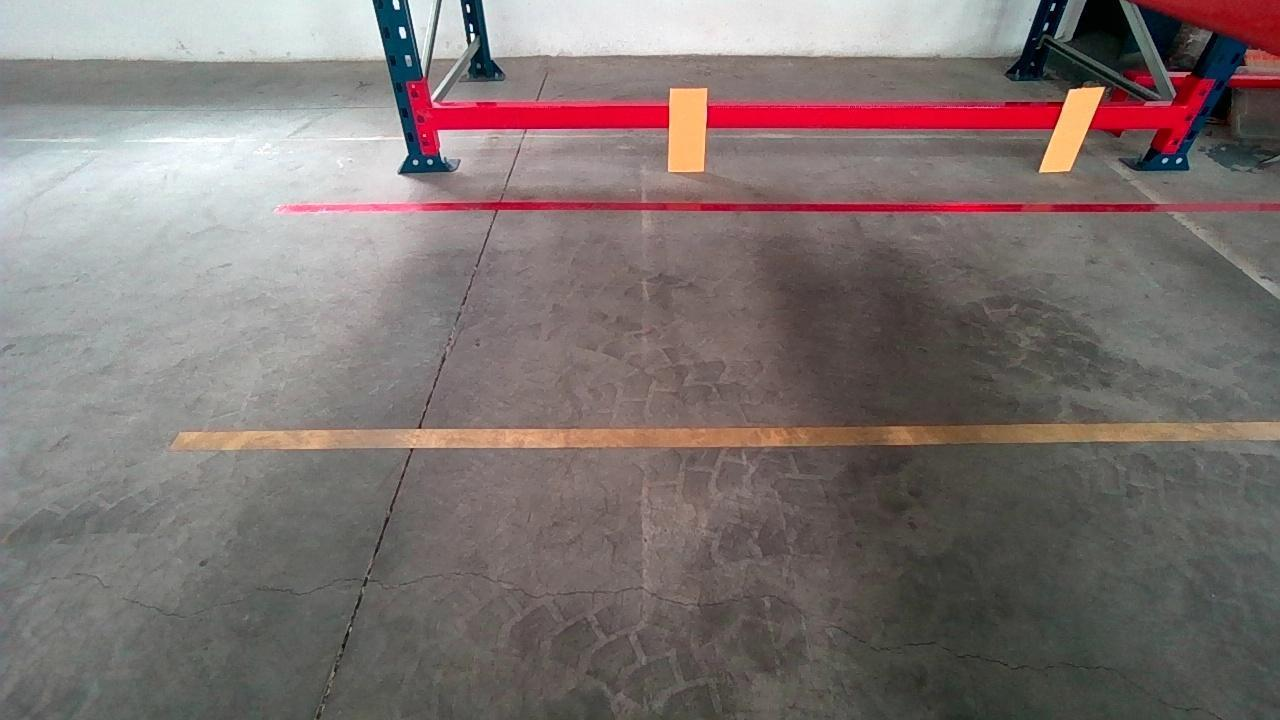h_rack: (433, 95, 1174, 132)
orange_strip: (1039, 86, 1109, 169), (669, 87, 708, 169)
red_line: (272, 198, 1275, 220)
yellow_line: (169, 415, 1280, 451)
